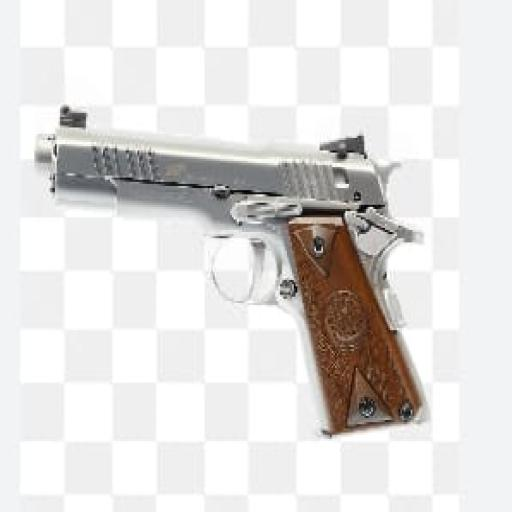Gun: (36, 107, 421, 430)
